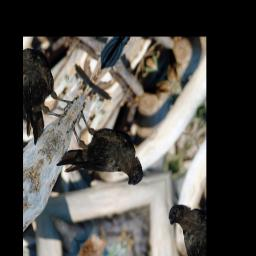Crow: (48, 95, 156, 223)
